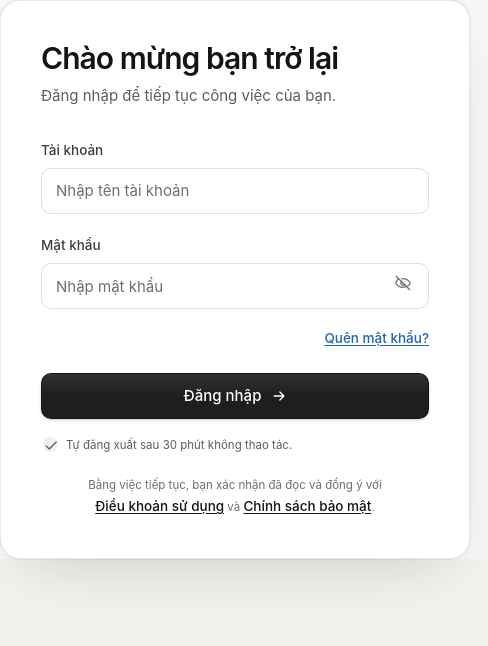
LoginForm (NCL-01-CN-001, NCL-01-CN-008) › hiển thị thông báo lỗi khi thiếu tài khoản hoặc mật khẩu
The width and height of the screenshot is (488, 646).
Click the button "Đăng nhập" at (235, 396), box [41,373,429,419]
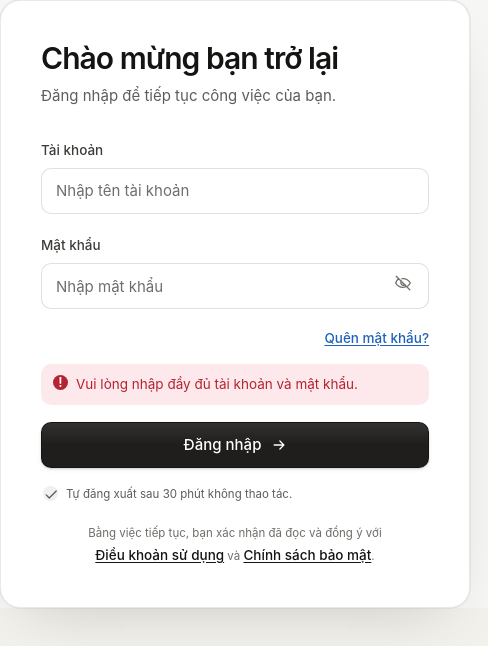
Expected: the message shows "Vui lòng nhập đầy đủ", [76,376,358,392]
